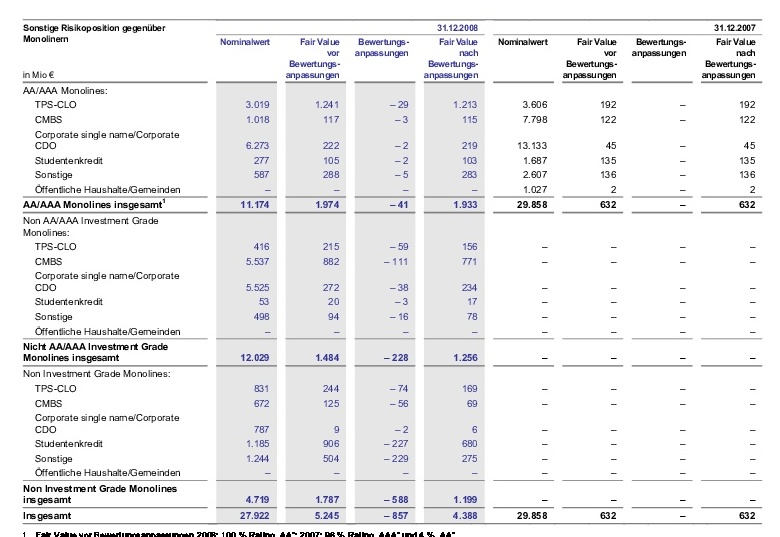table: (0, 0, 780, 537)
